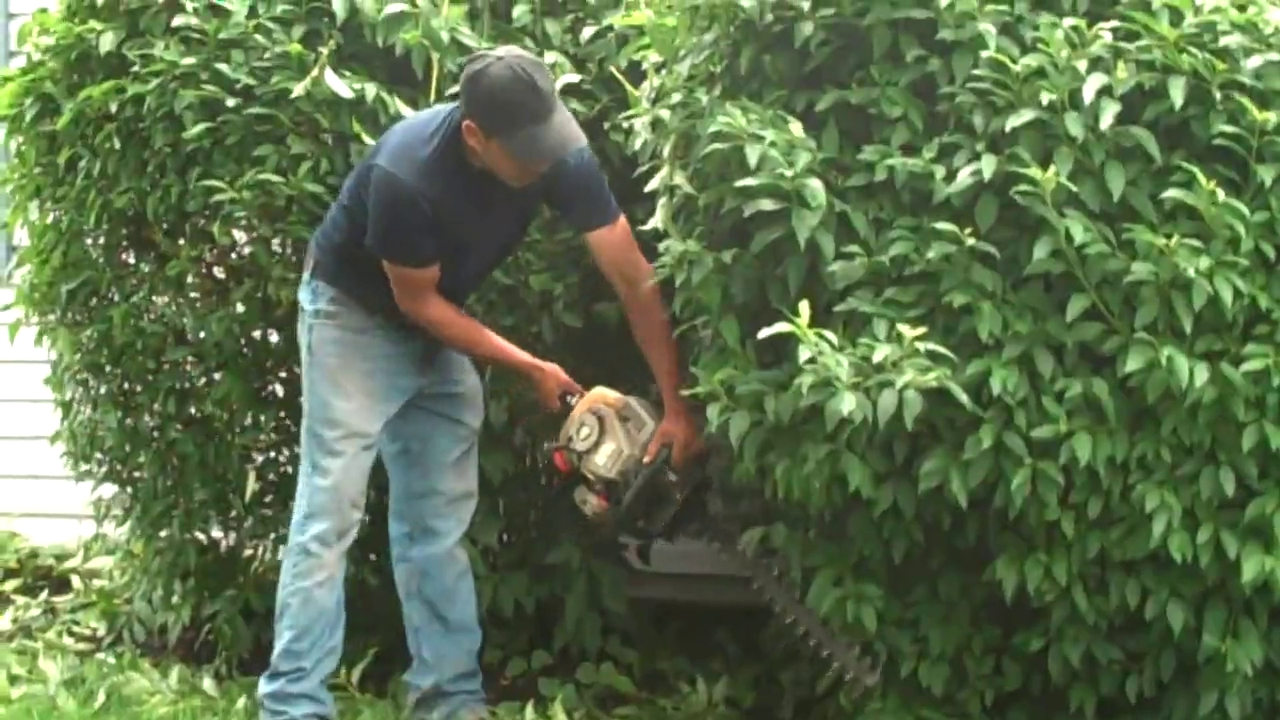person: (257, 46, 709, 720)
